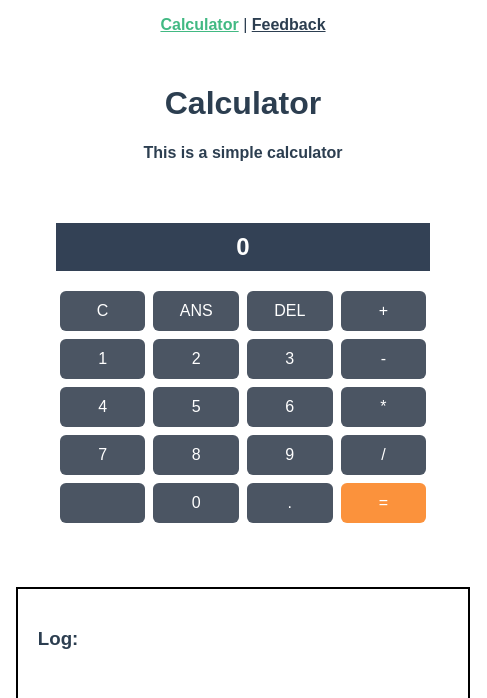
Test: Tests for trying out form for feedback › Feedback button links to /feedback
This screenshot has width=487, height=698.
Click the link "Feedback". click: click(289, 25)
box: [252,16,326,33]
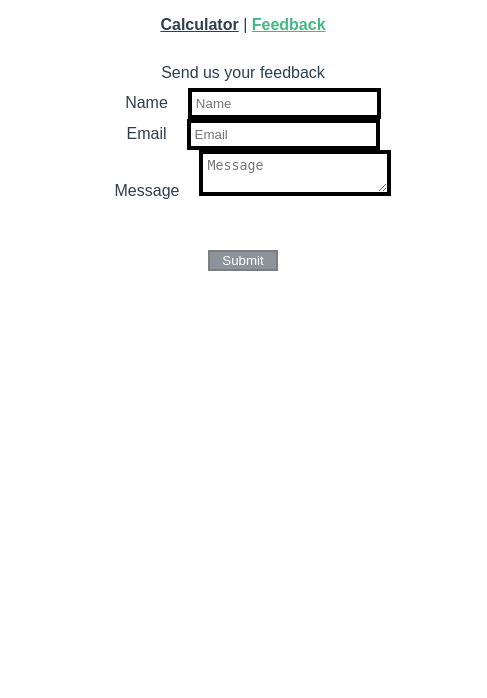
Check: the text "Send us your feedback" is shown, box [161,64,325,81]
